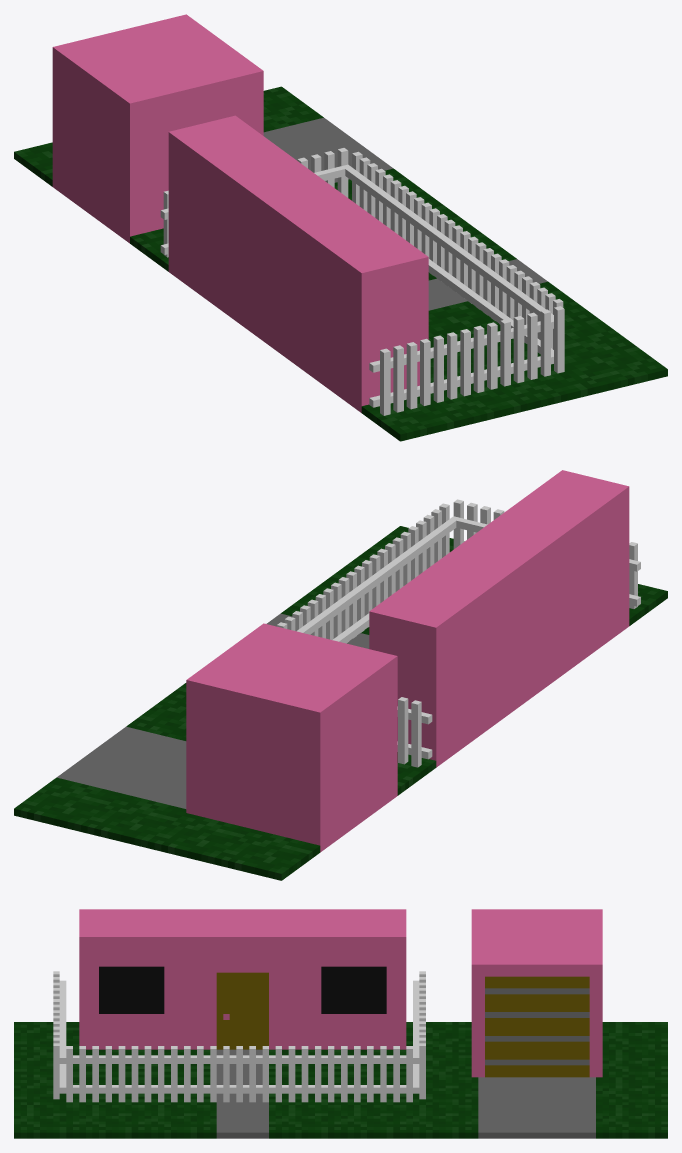
File: house_pink.fbx
3 renders of one model, top to bottom at view 1: azimuth 30°, elevation 25°; view 2: azimuth 150°, elevation 25°; view 3: azimuth 270°, elevation 25°, orthographic. The views are drawn at different scales.
Visible parts, largest first — view 1: Union; view 2: Union; view 3: Union.
Boxes of the visible parts, x1,y1,x2,y2 form: Union: (14, 14, 667, 441); Union: (14, 470, 667, 880); Union: (14, 909, 667, 1138).
Size of the model in its own units: 40 by 20 by 100.
